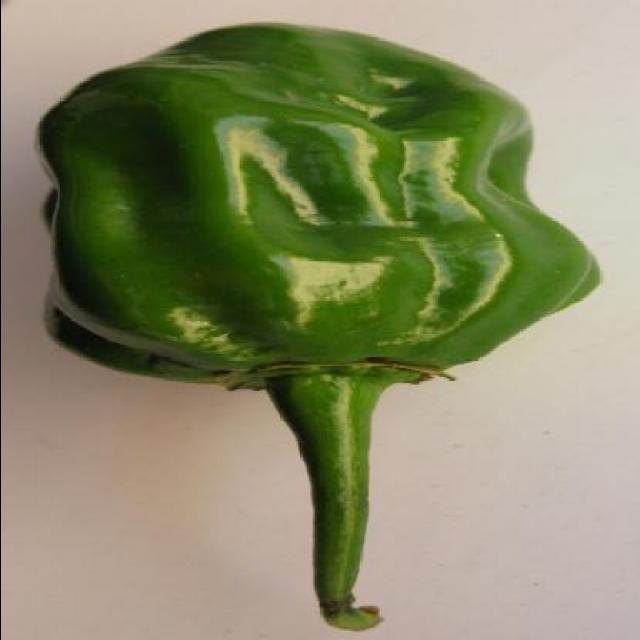Bell pepper: (31, 22, 609, 630)
